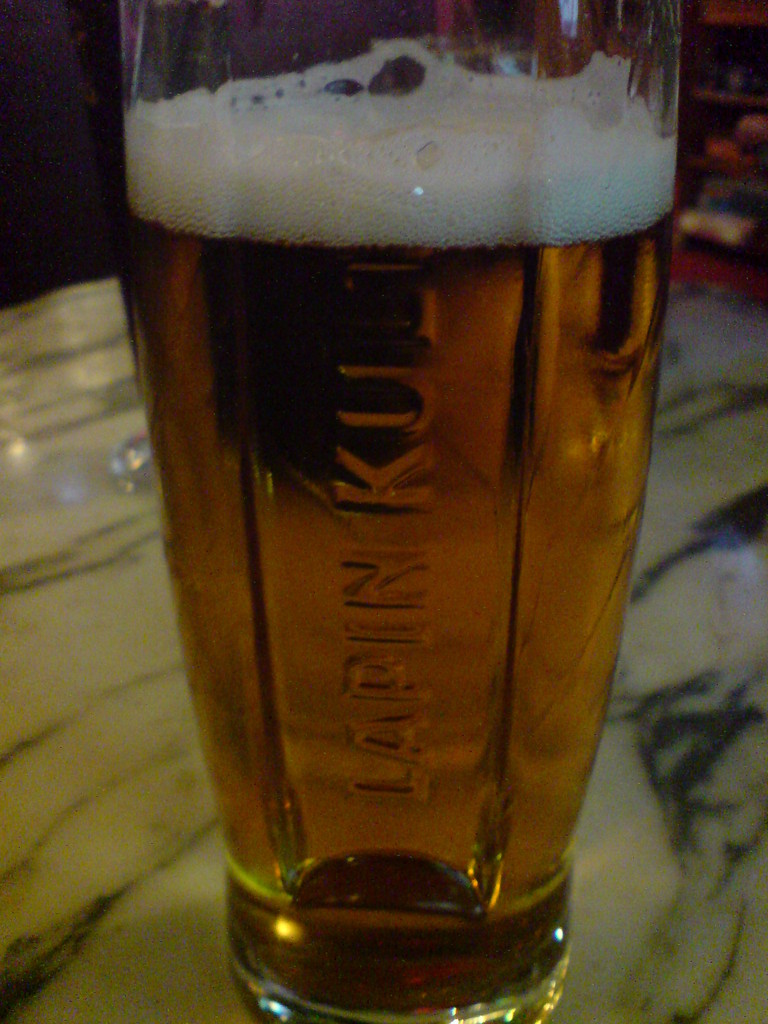Beer: (97, 34, 691, 1020)
